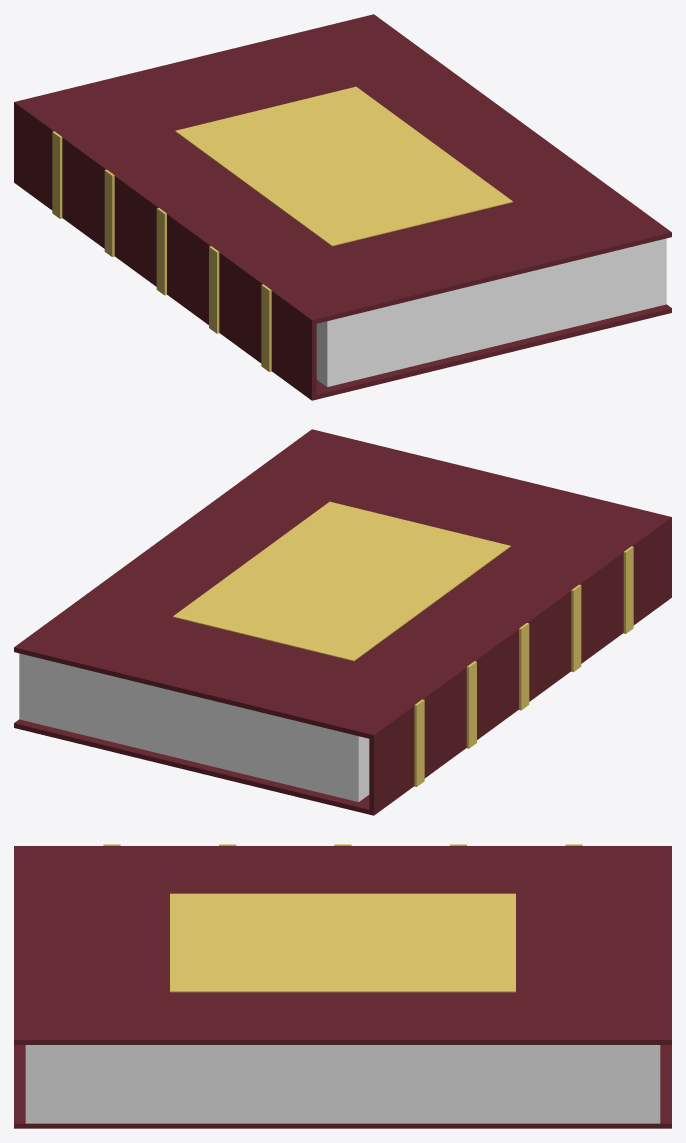
Rendered from jerryblessed-book-4923.glb.
3 renders of one model, top to bottom at view 1: azimuth 30°, elevation 25°; view 2: azimuth 150°, elevation 25°; view 3: azimuth 270°, elevation 25°, orthographic. The views are drawn at different scales.
Parts seen in each view (by area): view 1: TopCover, GoldOrnament, Pages, Spine, BottomCover, SpineBand_2, SpineBand_3, SpineBand_4, SpineBand_0, SpineBand_1; view 2: TopCover, GoldOrnament, Pages, Spine, BottomCover, SpineBand_0, SpineBand_1, SpineBand_2, SpineBand_3, SpineBand_4; view 3: TopCover, Pages, GoldOrnament, BottomCover, Spine.
Part boxes in pixels (box(x1,y1,x2,y2)): TopCover: box(16, 14, 671, 324); GoldOrnament: box(175, 86, 512, 246); Pages: box(316, 238, 666, 386); Spine: box(14, 101, 316, 400); BottomCover: box(314, 304, 671, 399); SpineBand_2: box(156, 208, 166, 295); SpineBand_3: box(104, 169, 114, 257); SpineBand_4: box(52, 131, 62, 218); SpineBand_0: box(261, 284, 271, 371); SpineBand_1: box(209, 246, 219, 333); TopCover: box(14, 429, 669, 738); GoldOrnament: box(173, 501, 510, 661); Pages: box(19, 653, 369, 801); Spine: box(369, 516, 671, 815); BottomCover: box(14, 719, 371, 814); SpineBand_0: box(623, 546, 633, 633); SpineBand_1: box(571, 584, 581, 672); SpineBand_2: box(519, 623, 529, 710); SpineBand_3: box(466, 661, 476, 748); SpineBand_4: box(414, 699, 424, 786); TopCover: box(14, 847, 671, 1044); Pages: box(25, 1045, 660, 1123); GoldOrnament: box(170, 893, 515, 992); BottomCover: box(14, 1045, 671, 1128); Spine: box(14, 846, 671, 848).
Bounding box in the file's own units: 0.16 × 0.0346 × 0.228.
